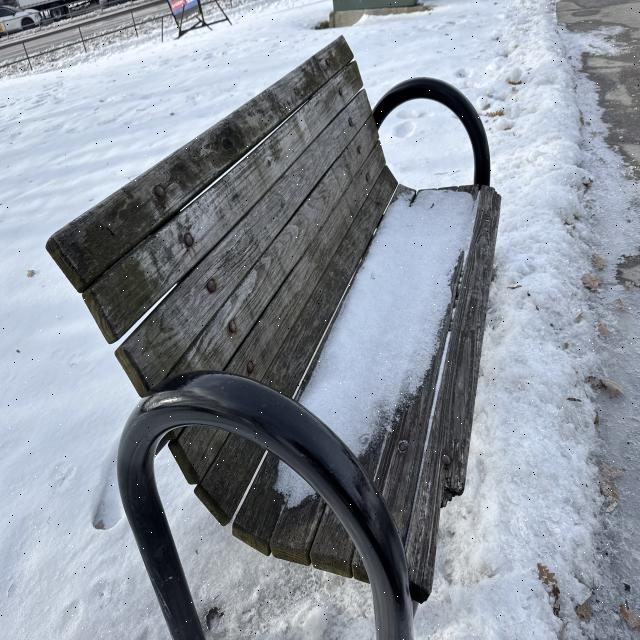Bench: (84, 34, 504, 602)
